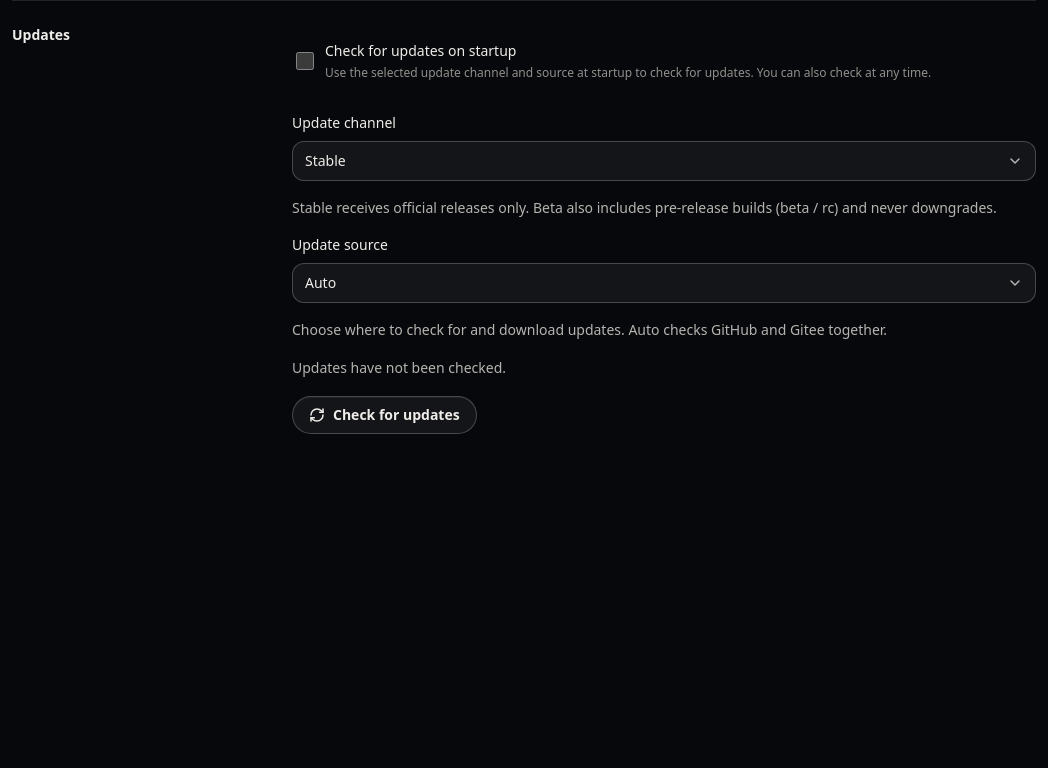
Test: Settings → About → Updates › a new source is saved at once and clears the previous result
What coordinates should you click on to do the following:
click the button "Check for updates"
I would click on:
 (384, 415)
Its box is left=292, top=396, right=477, bottom=434.
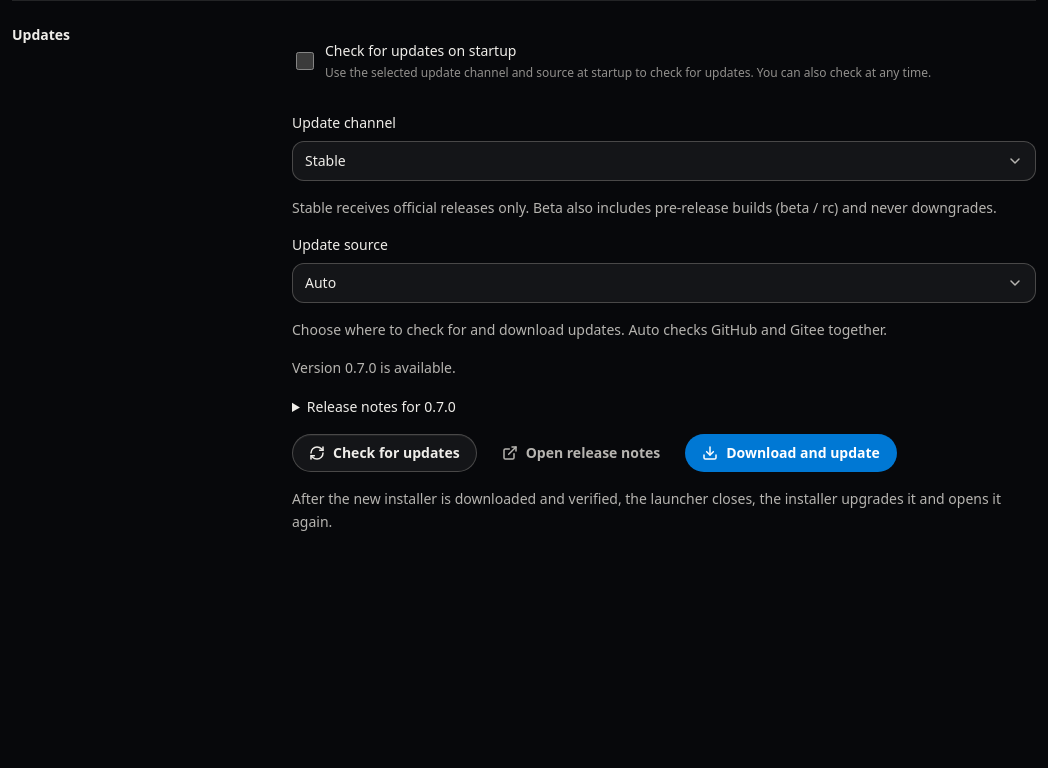
What coordinates should you click on to do the following:
click the dropdown labelled "Auto"
I would click on:
 (321, 283)
Its box is left=293, top=264, right=1035, bottom=302.
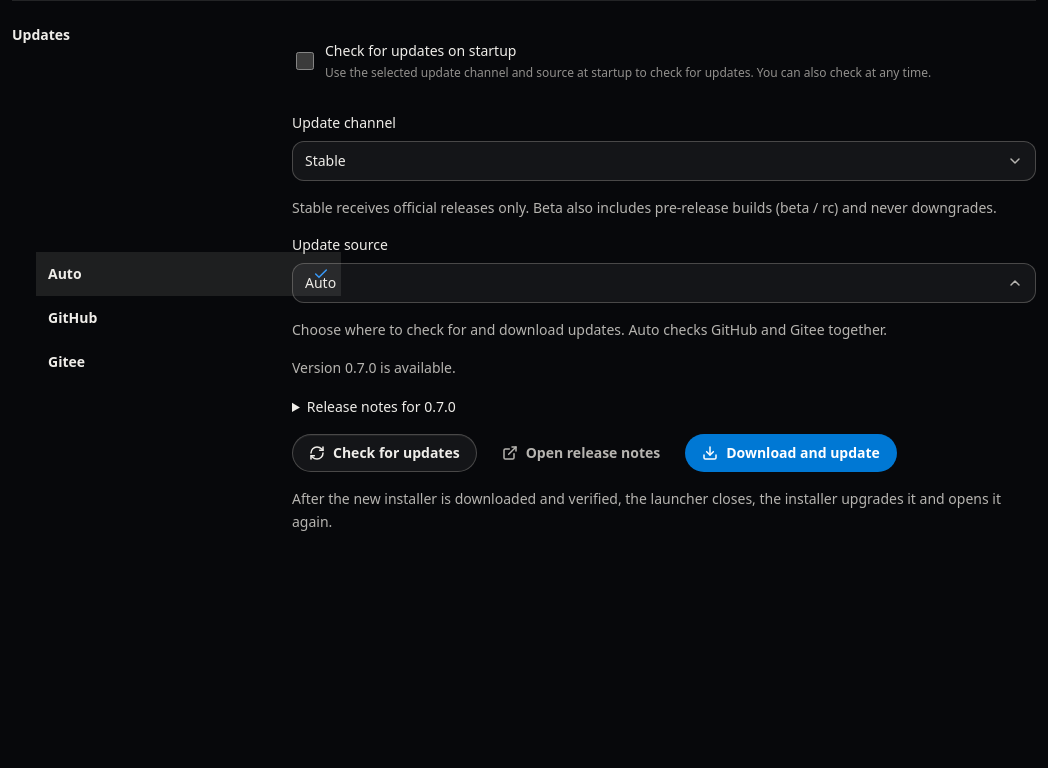
What coordinates should you click on to do the following:
click the option "Gitee"
I would click on:
 (66, 362)
Its box is left=48, top=352, right=85, bottom=371.
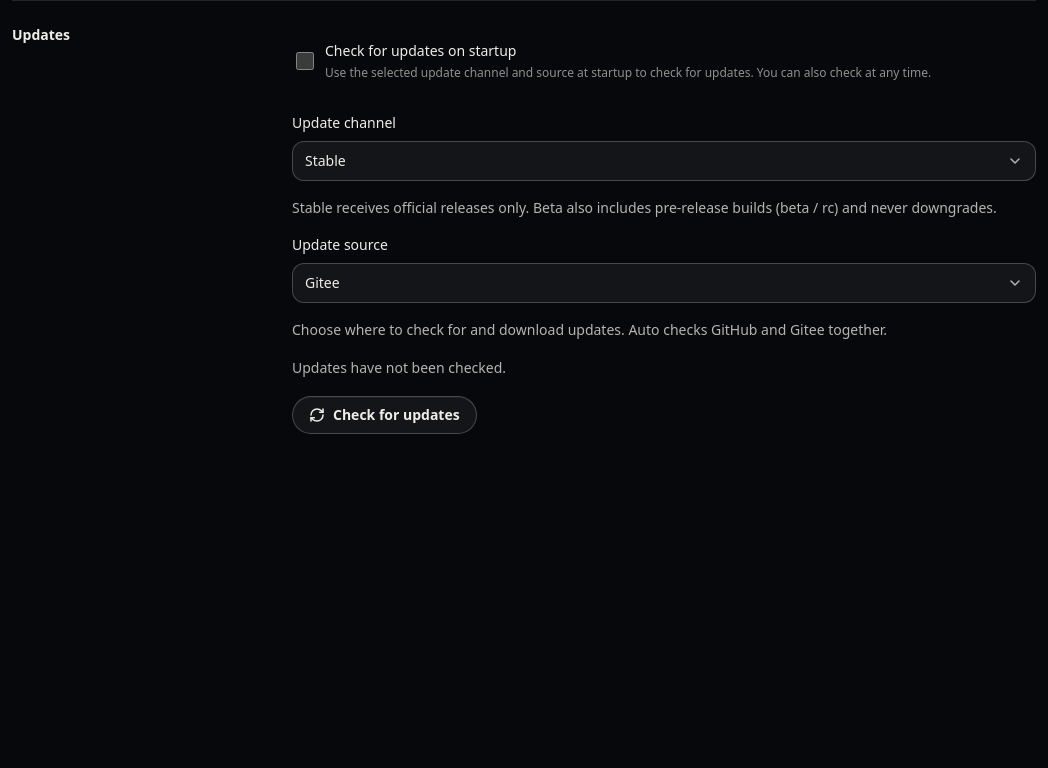
Expected: the message with test id "launcher-update-status" reads "Updates have not been checked.", left=292, top=358, right=506, bottom=377
